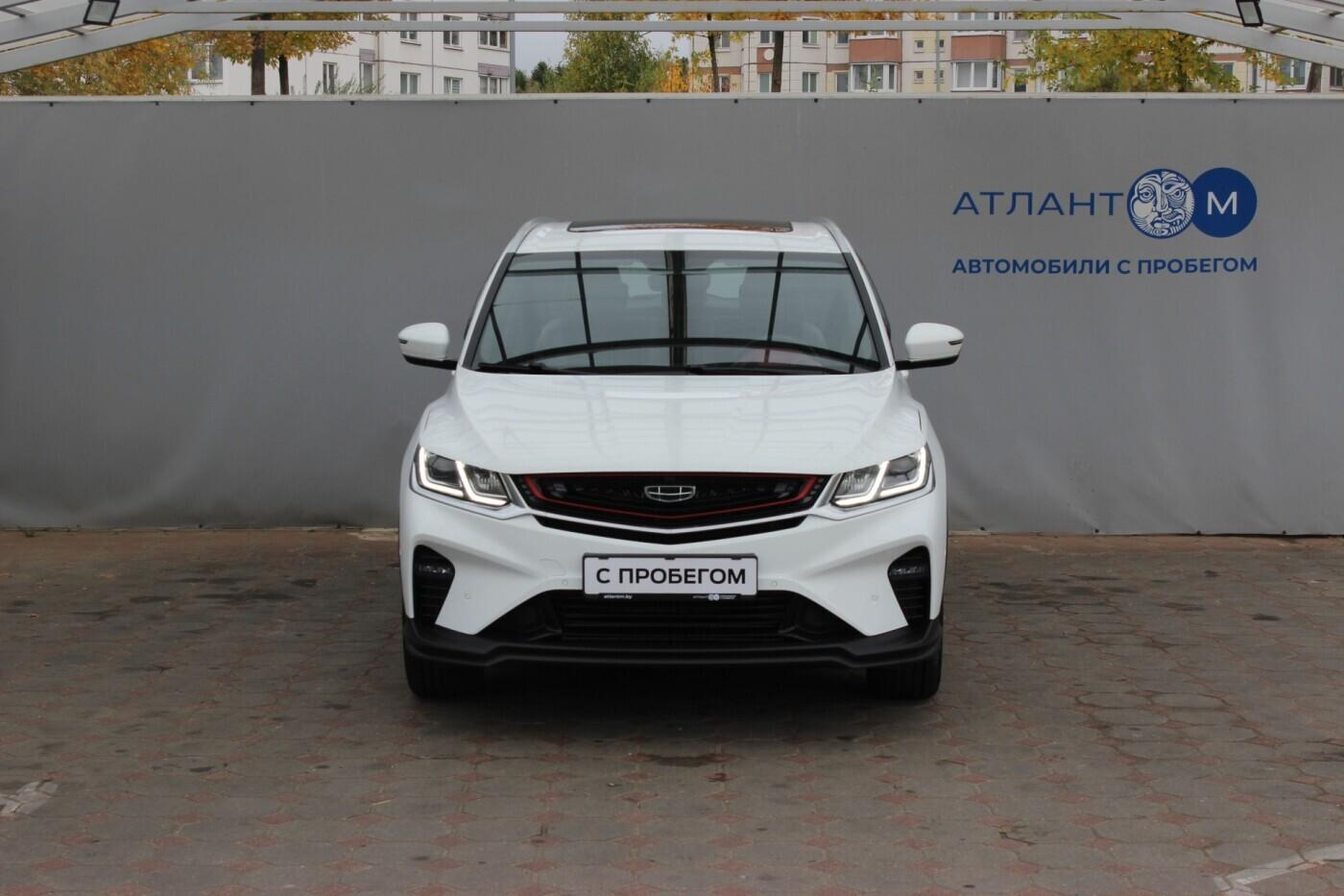Coolray_2019-2023: (385, 205, 965, 706)
